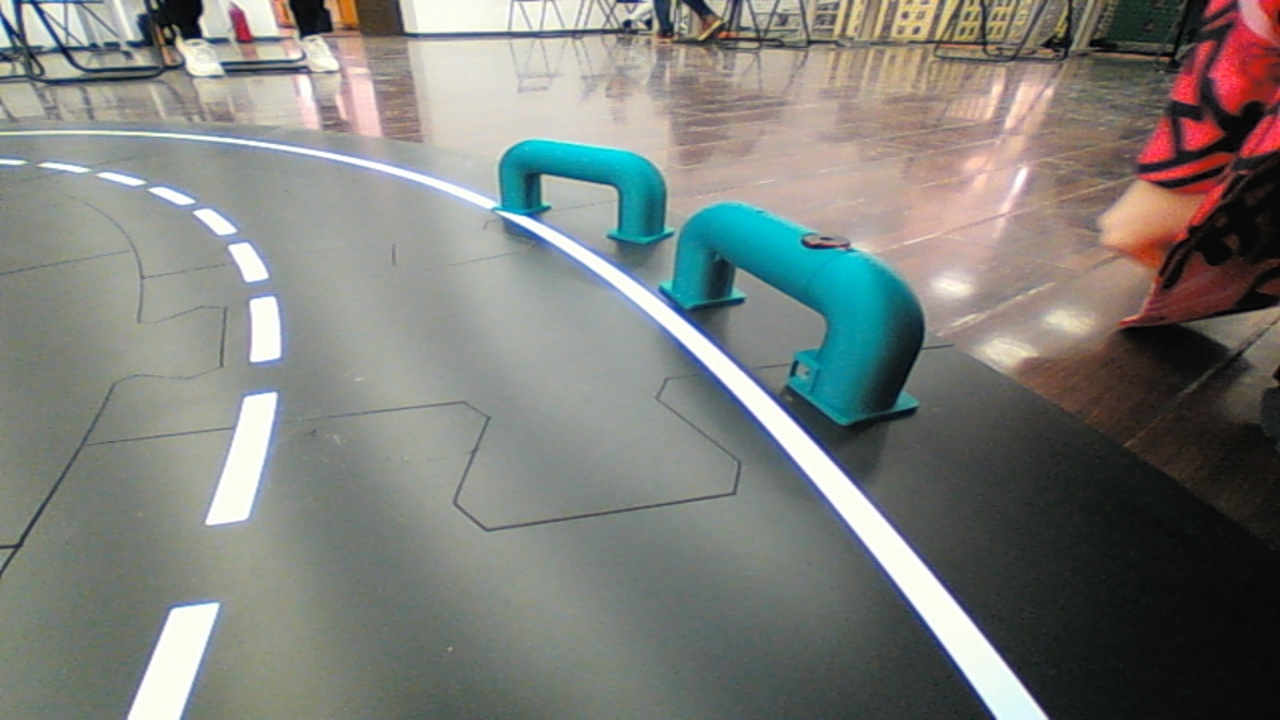No entry: (476, 133, 680, 253)
Pedestrian crossing: (665, 181, 944, 433)
